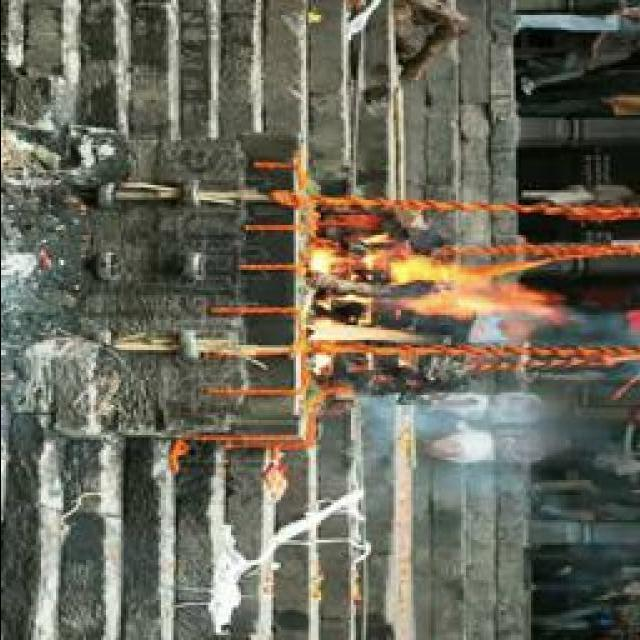Fire: (302, 254, 564, 360)
